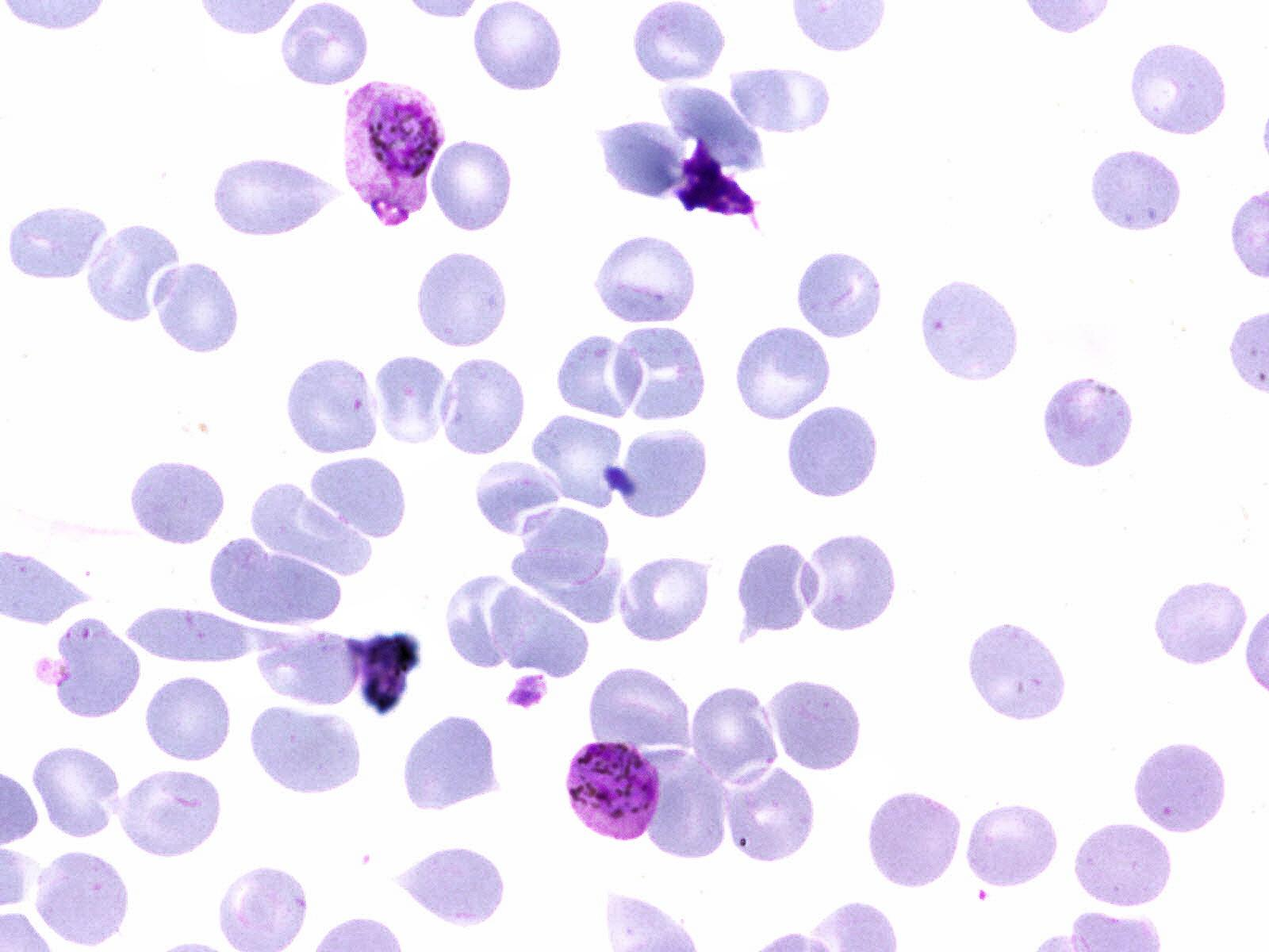Infected: (344, 79, 445, 227), (569, 740, 662, 840)
Uninfected: (248, 480, 375, 580), (208, 538, 344, 622), (796, 530, 899, 638), (918, 276, 1022, 382), (248, 705, 369, 792), (123, 605, 301, 664), (658, 83, 769, 175), (611, 324, 708, 428), (80, 220, 178, 322), (113, 766, 226, 854), (1130, 739, 1229, 838), (489, 581, 588, 680), (36, 846, 135, 945), (402, 712, 500, 812), (252, 620, 363, 708), (590, 235, 696, 327), (643, 745, 726, 862), (48, 616, 144, 716), (1041, 371, 1136, 472), (1069, 819, 1174, 909), (967, 624, 1067, 718), (1130, 44, 1233, 135), (867, 793, 961, 892), (125, 457, 228, 547), (765, 680, 861, 776), (615, 424, 713, 518), (529, 412, 623, 510), (614, 551, 714, 643), (29, 738, 117, 842), (415, 250, 510, 346), (508, 549, 626, 626), (723, 763, 812, 865), (738, 326, 832, 422), (964, 799, 1060, 892), (472, 0, 565, 95), (689, 682, 778, 781), (1087, 147, 1187, 235), (590, 670, 692, 756), (286, 358, 379, 452), (784, 406, 880, 497), (209, 159, 327, 233), (397, 847, 510, 924), (735, 537, 819, 639), (154, 259, 243, 355), (1152, 578, 1249, 666), (439, 358, 525, 456), (591, 115, 696, 195), (4, 205, 113, 281), (145, 673, 232, 763), (310, 458, 405, 540), (797, 251, 883, 341), (431, 140, 514, 231), (556, 335, 646, 418), (279, 4, 369, 87), (373, 356, 454, 447), (634, 1, 728, 79), (520, 506, 611, 585), (728, 67, 829, 135), (443, 576, 516, 669), (475, 460, 563, 533)
